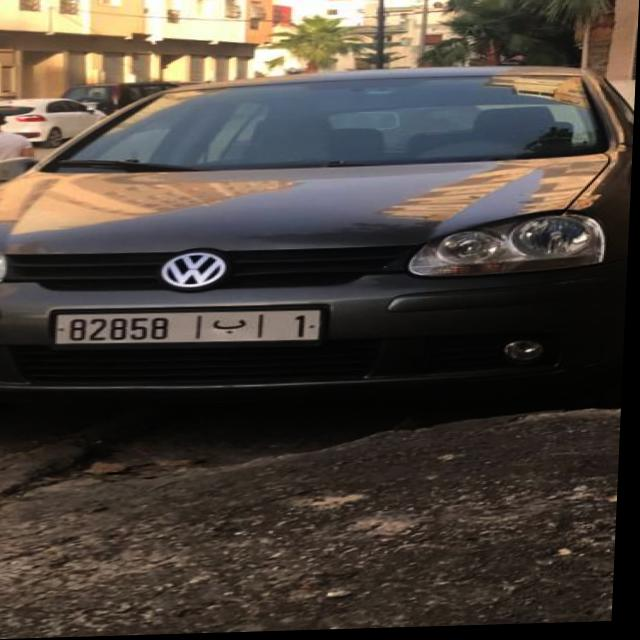License-Plate: (57, 311, 325, 346)
